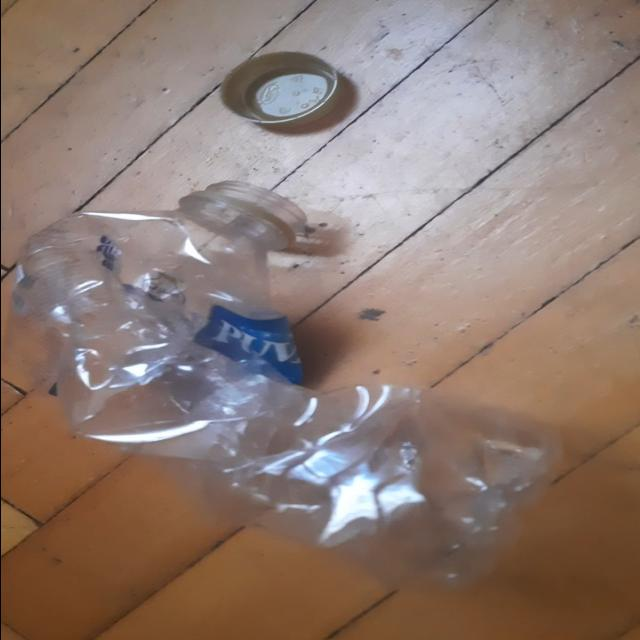Plastic: (9, 181, 560, 591)
